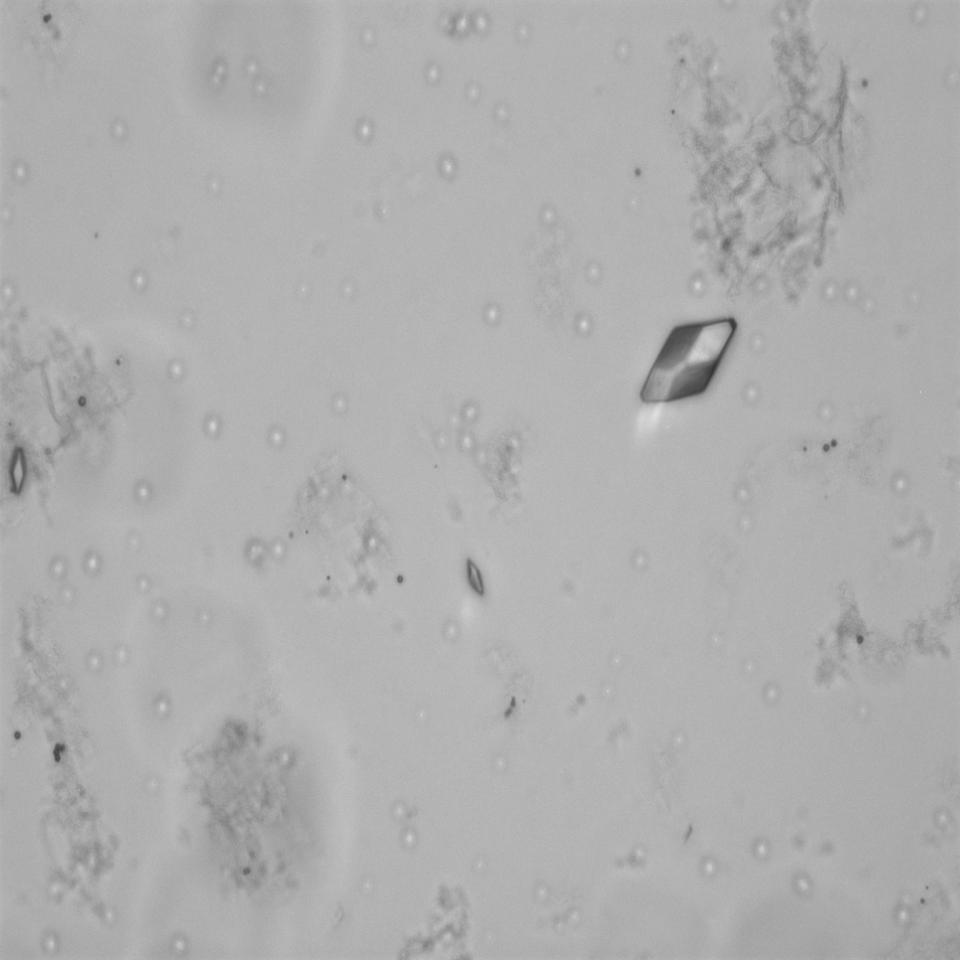crystal: (639, 305, 743, 410)
